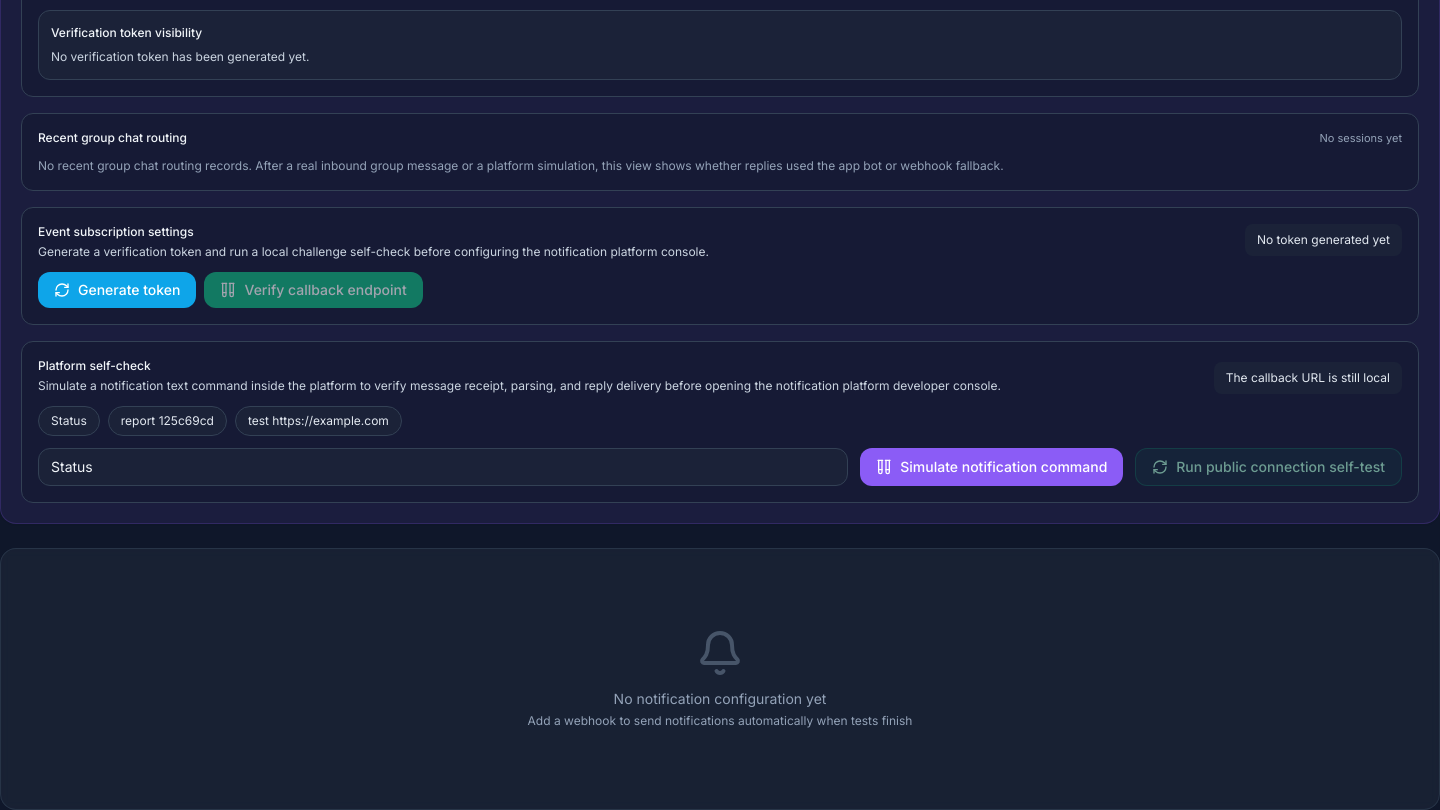
Test: NotificationPage › should simulate chatops command from notification page
This screenshot has width=1440, height=810.
(page scrolled)
Click the button "Simulate notification command": (992, 467) [860,448,1123,486]
(page scrolled)
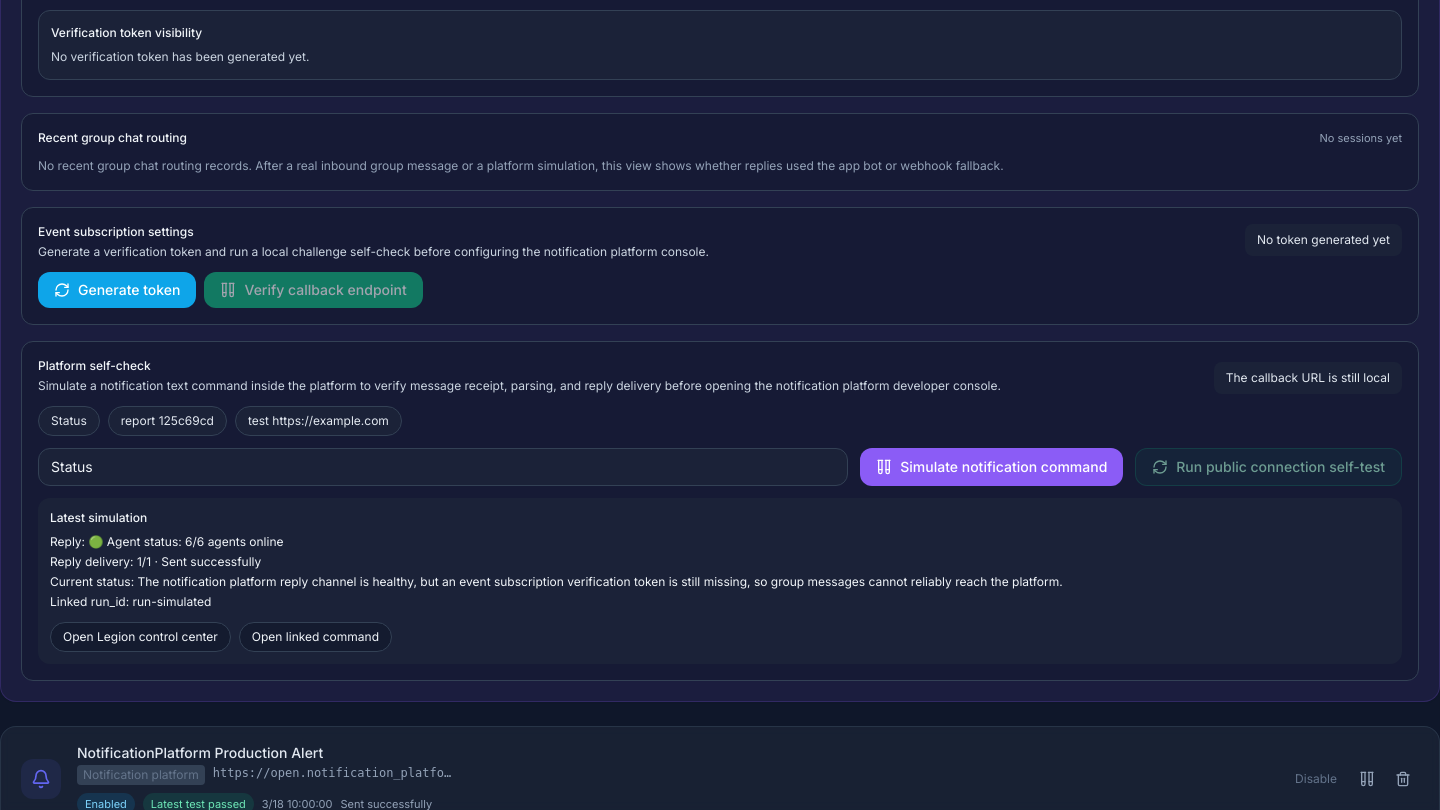
Expected: the text "Latest simulation" is shown, [50,510,147,525]
Expected: the text "Current status: The notification platform reply channel is healthy, but an event subscription verification token is stil" is shown, [50,574,1063,589]
Expected: the text "Linked run_id: run-simulated" is shown, [50,594,211,609]
